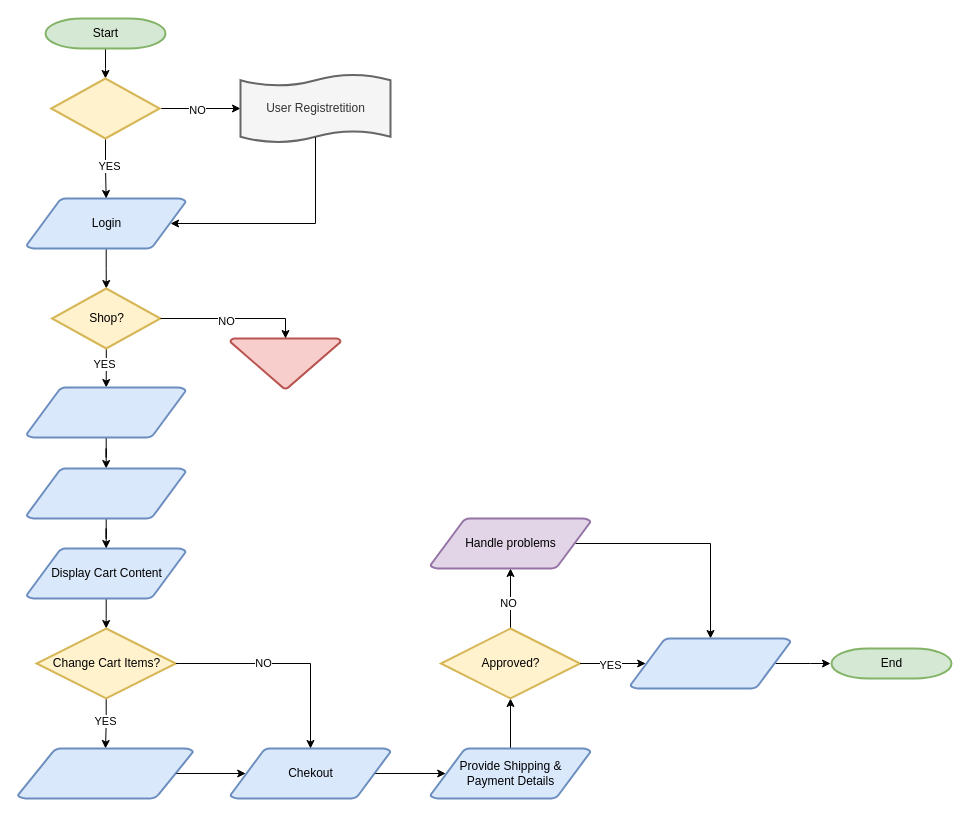
Some shapes in this 970 by 816 pixel diagram are drawn without their labels. The shapes that lost their labels are listed below. From the top down, each one's centre as x and y in pixels, then its label:
At pixel 105 108: "Registered?".
At pixel 285 363: "Logout".
At pixel 105 412: "View/Shop Items".
At pixel 105 493: "Add Items To Cart".
At pixel 710 663: "Order Confirmation".
At pixel 105 773: "Change Items Quantity".
